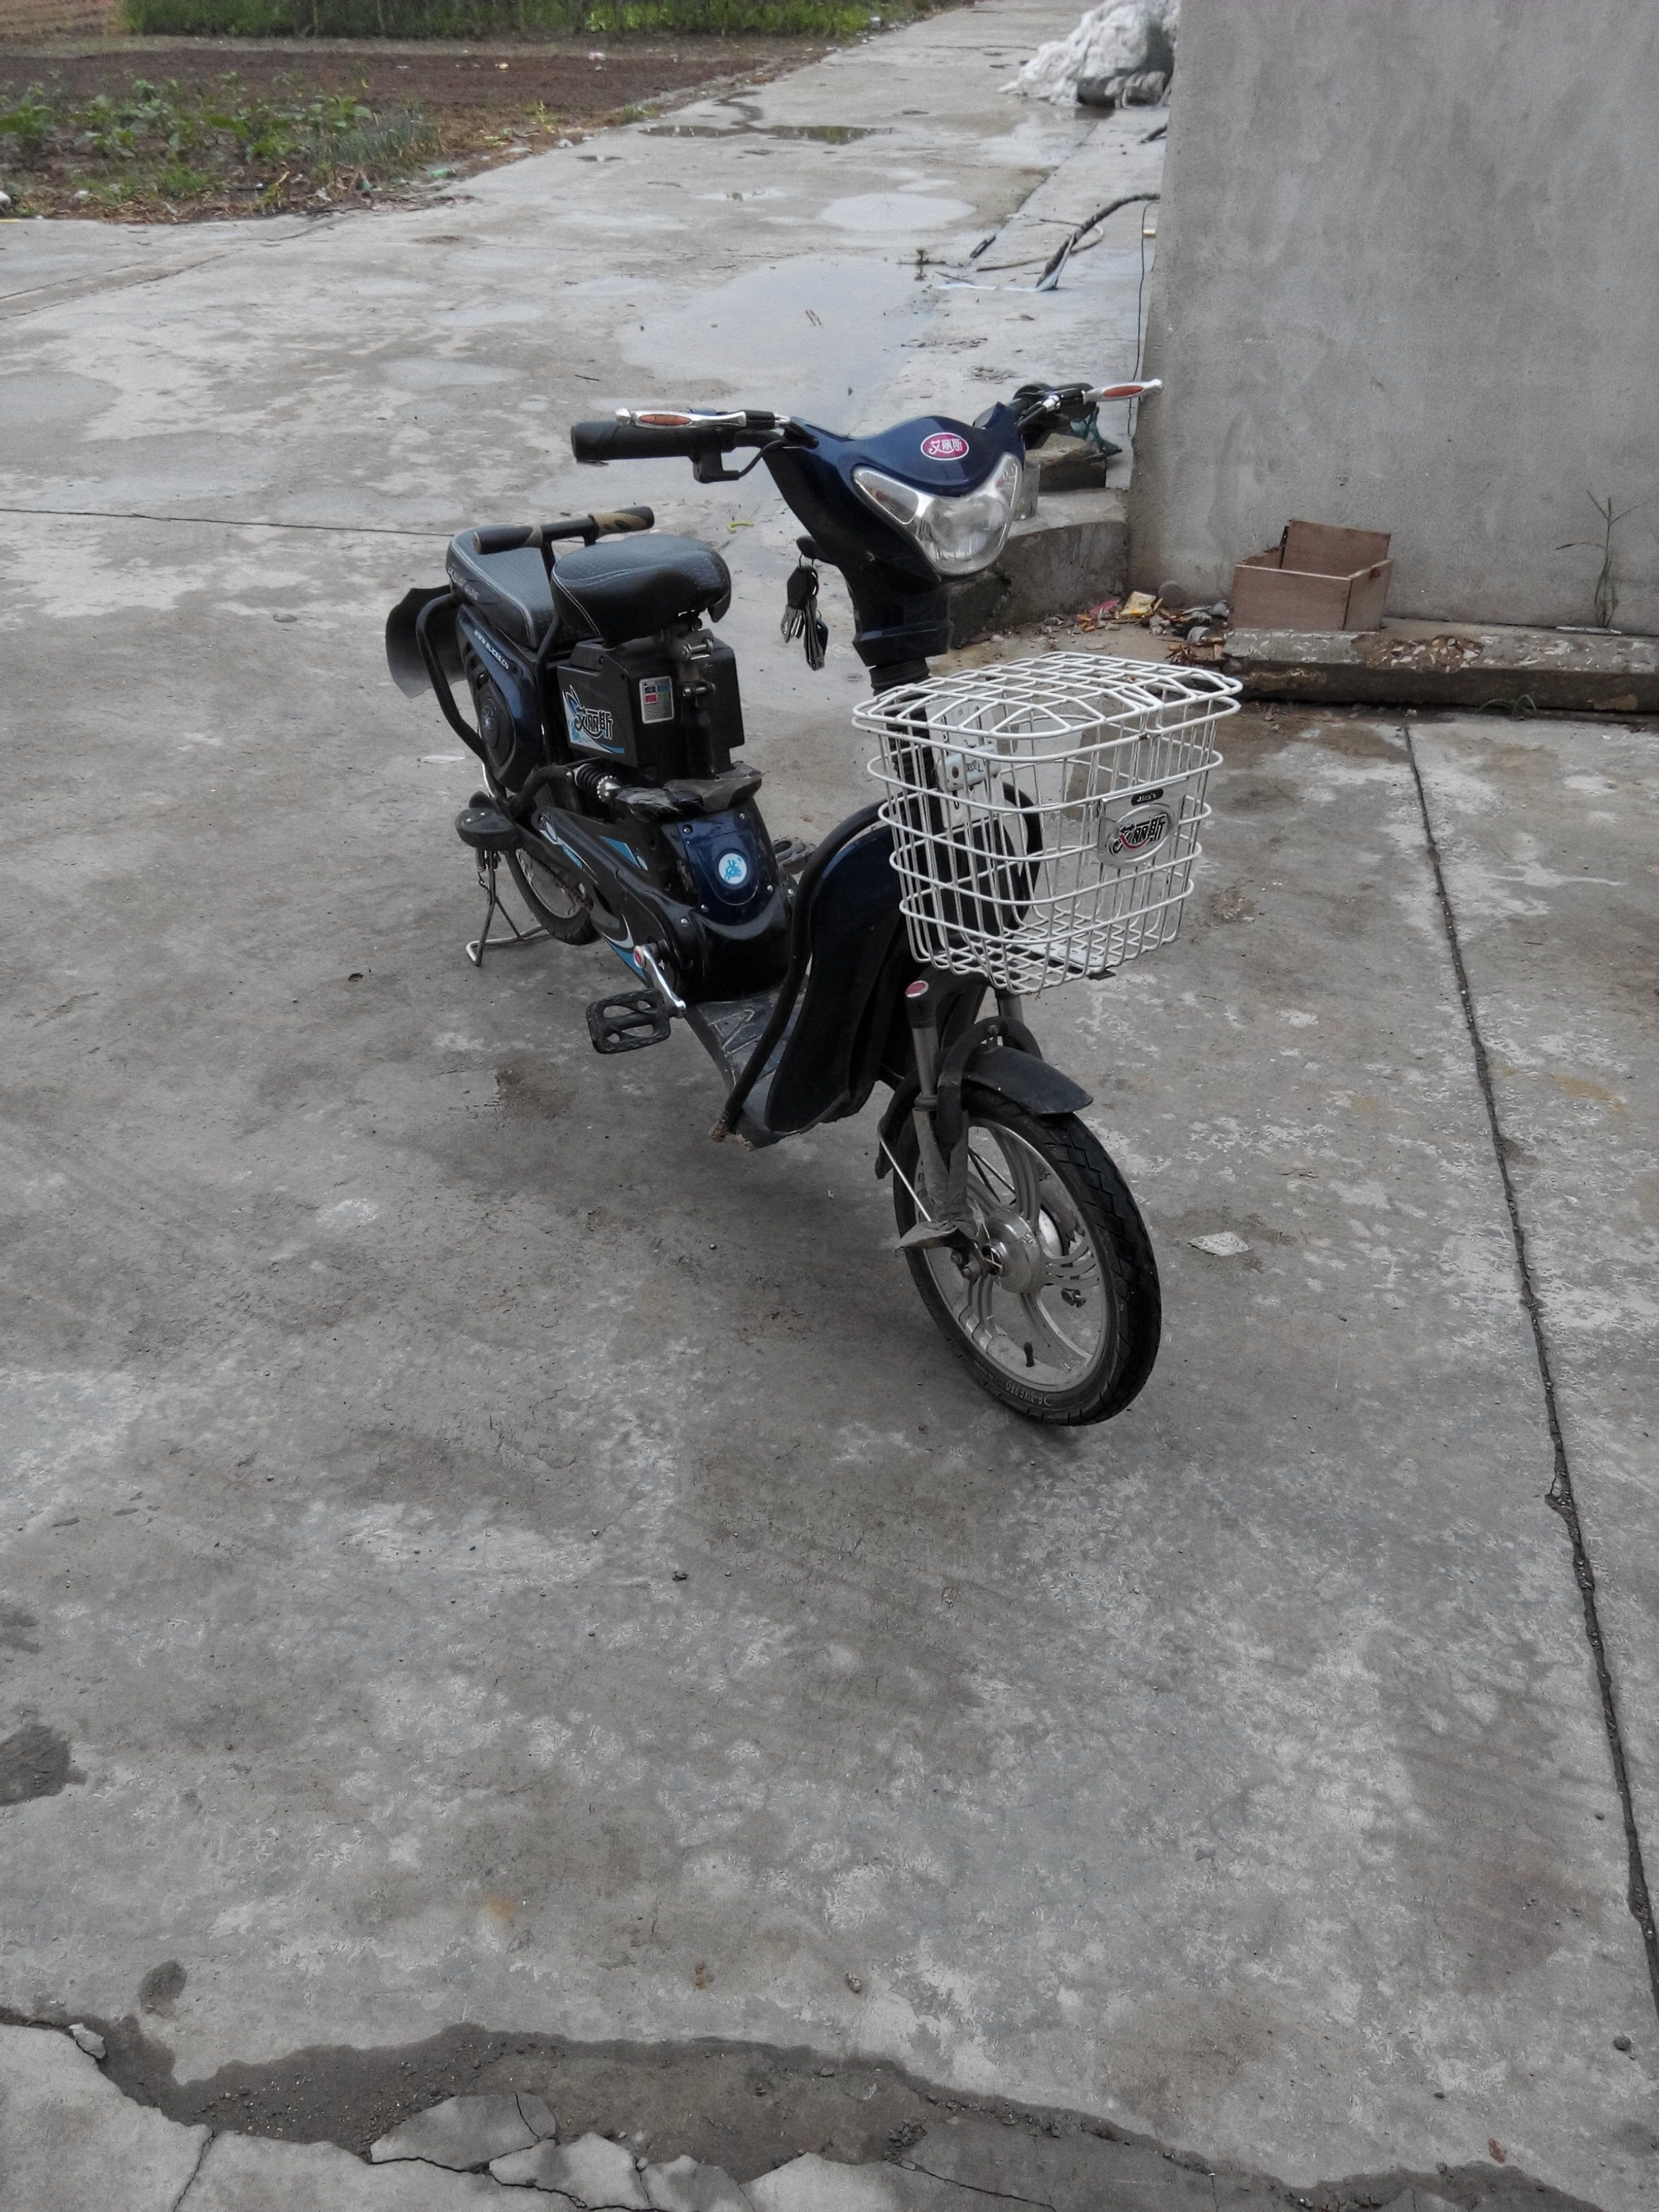电动车: (355, 362, 1274, 1426)
